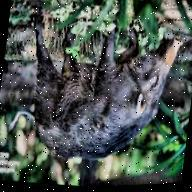boar: (28, 17, 188, 180)
